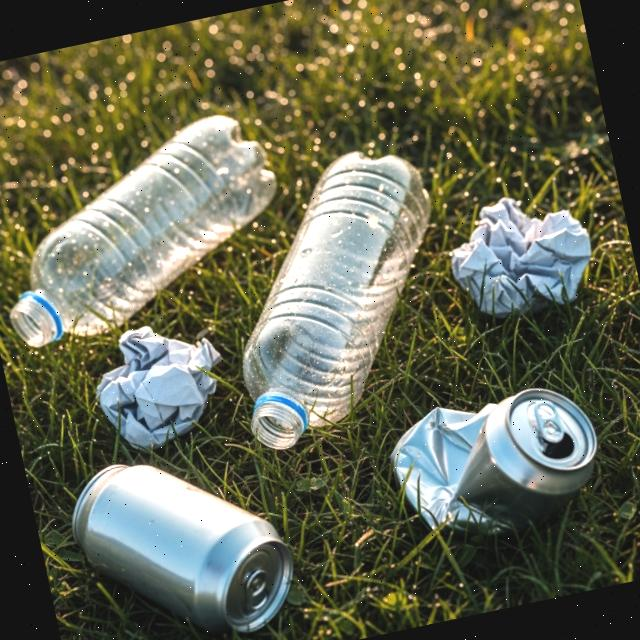aluminum: (57, 427, 310, 640), (378, 374, 618, 564)
paper: (438, 180, 604, 328), (80, 309, 238, 461)
plastic: (197, 133, 478, 460), (0, 98, 306, 358)
